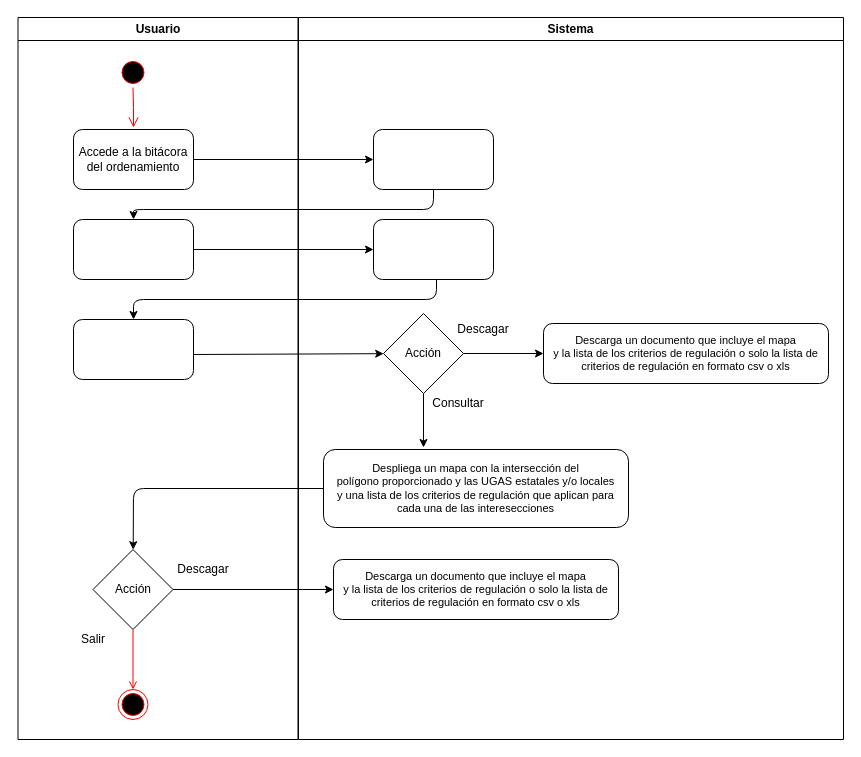
Image size: 861x757. Some labels were removed from this diagram. Each missing label, with the box of its shape:
El sistema presenta la interfaz de la bitácora del ordenamiento: (372, 128, 494, 190)
El sistema solicita que el usuario ingrese un polígono: (372, 218, 494, 280)
Ingresa el polígono de interés en formato shapefile: (72, 318, 194, 380)
Selecciona la sección de criterios de regulación: (72, 218, 194, 280)
